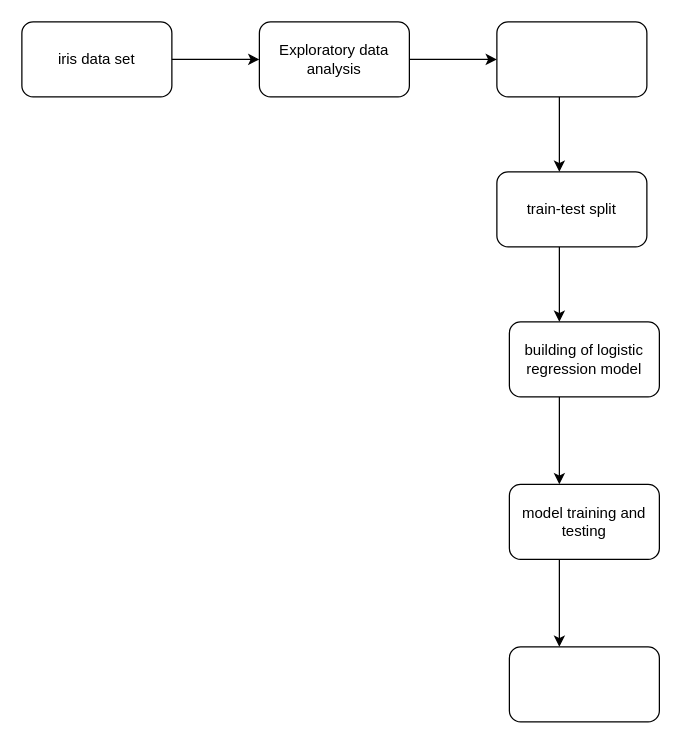
Image size: 681x744. Some labels were removed from this diagram. The centre of each missing label's shape, as x and y in pixels:
feature engineering: pixel 571 59
model evaluation: pixel 583 684
